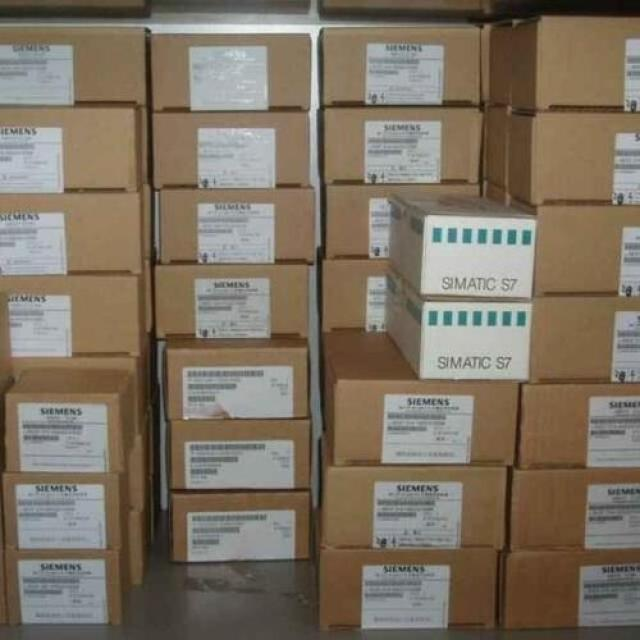box: (320, 329, 520, 466), (319, 421, 504, 548), (316, 513, 500, 631), (388, 265, 530, 380), (1, 436, 140, 553), (1, 509, 140, 626), (481, 15, 640, 114), (389, 196, 538, 301), (0, 257, 154, 358), (4, 369, 137, 472), (0, 186, 151, 276), (1, 105, 151, 195), (508, 195, 640, 296), (319, 27, 481, 108), (319, 105, 484, 184), (148, 109, 310, 189), (148, 35, 312, 111), (164, 335, 311, 419), (159, 186, 317, 264), (509, 113, 640, 206), (323, 184, 484, 259), (151, 264, 310, 338), (509, 466, 640, 550), (517, 383, 640, 467), (169, 488, 310, 561), (166, 419, 311, 489), (530, 296, 640, 383), (315, 255, 388, 330), (485, 108, 511, 191)
